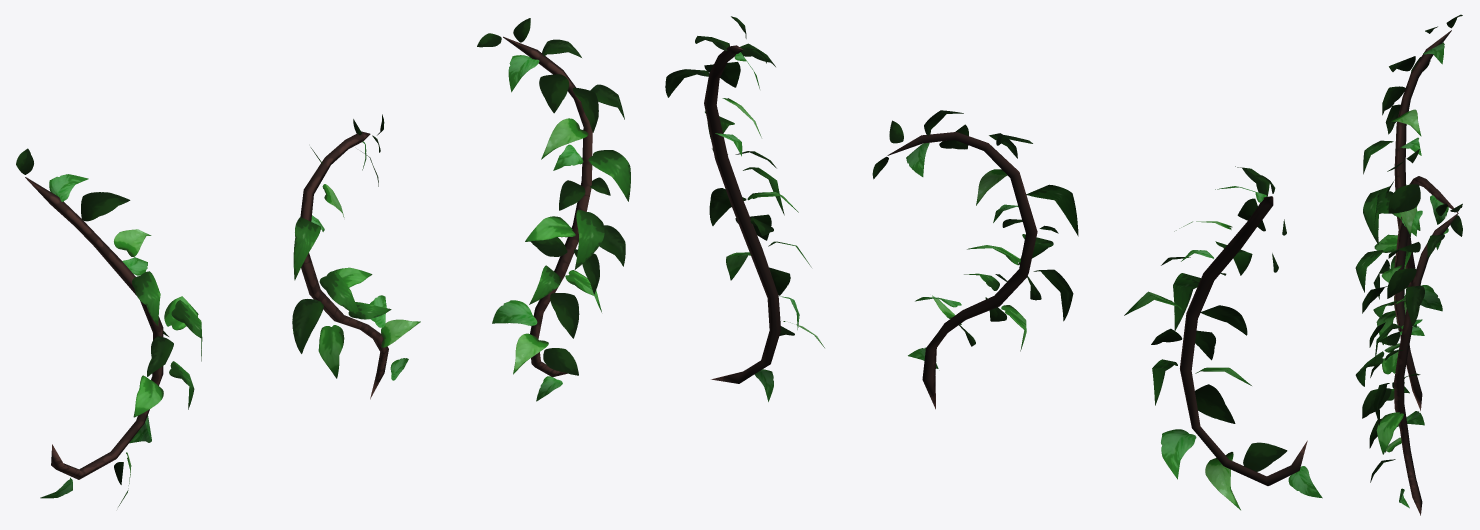
The model's file is Vines.FBX.
3 renders of one model, left to right at view 1: azimuth 30°, elevation 25°; view 2: azimuth 150°, elevation 25°; view 3: azimuth 270°, elevation 25°, orthographic. The views are drawn at different scales.
Visible parts, largest first — view 1: Vine1, Vine3, Vine2; view 2: Vine3, Vine2, Vine1; view 3: Vine1, Vine2, Vine3.
Part boxes in pixels (x1,y1,x2,y2): Vine1: (477, 18, 630, 401); Vine3: (16, 148, 202, 506); Vine2: (292, 114, 420, 399); Vine3: (1124, 166, 1322, 510); Vine2: (872, 110, 1078, 409); Vine1: (665, 16, 824, 401); Vine1: (1355, 203, 1462, 515); Vine2: (1355, 149, 1462, 410); Vine3: (1363, 14, 1462, 331).
Bounding box in the file's own units: 67.47 × 39.82 × 12.8.
